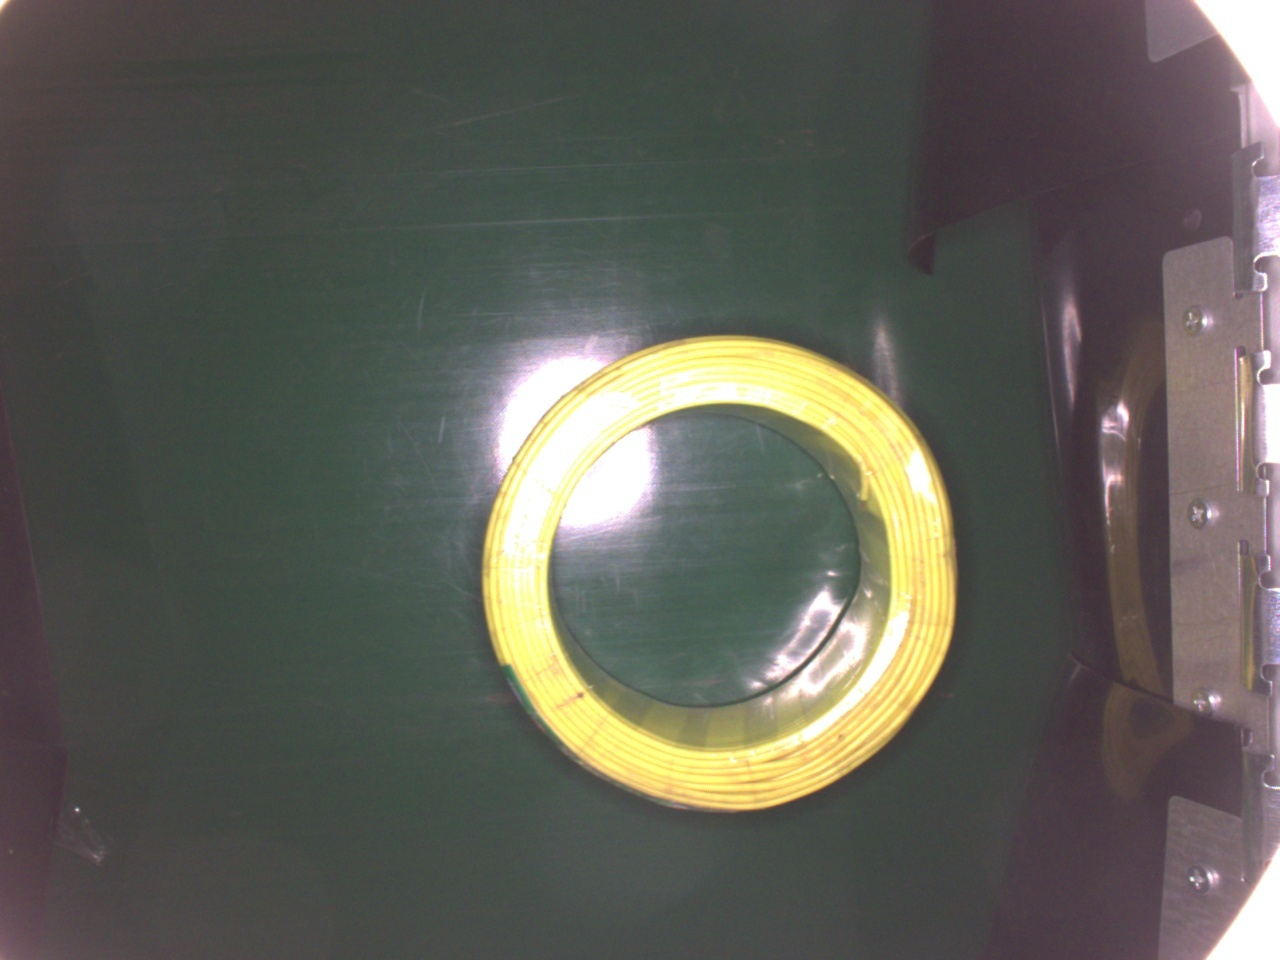yellow: (478, 334, 951, 811)
